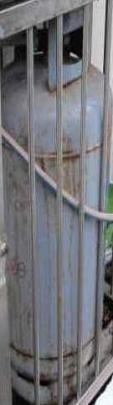cylinder: (1, 1, 113, 405)
